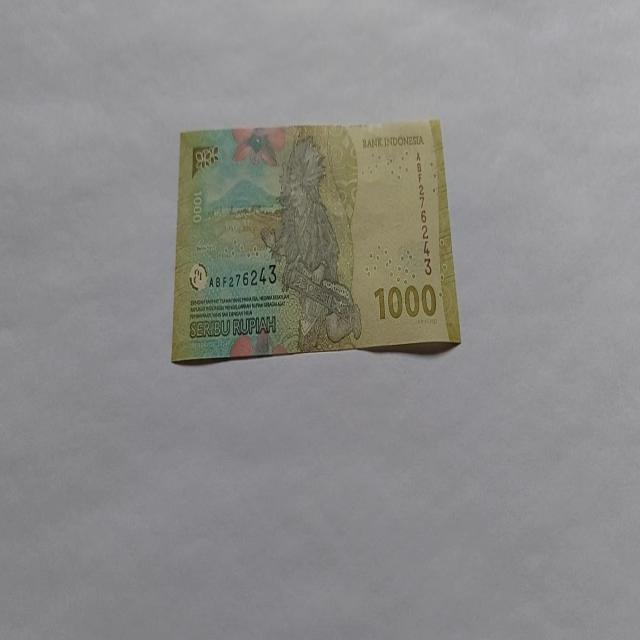seribu rupiah kertas: (170, 118, 462, 364)
